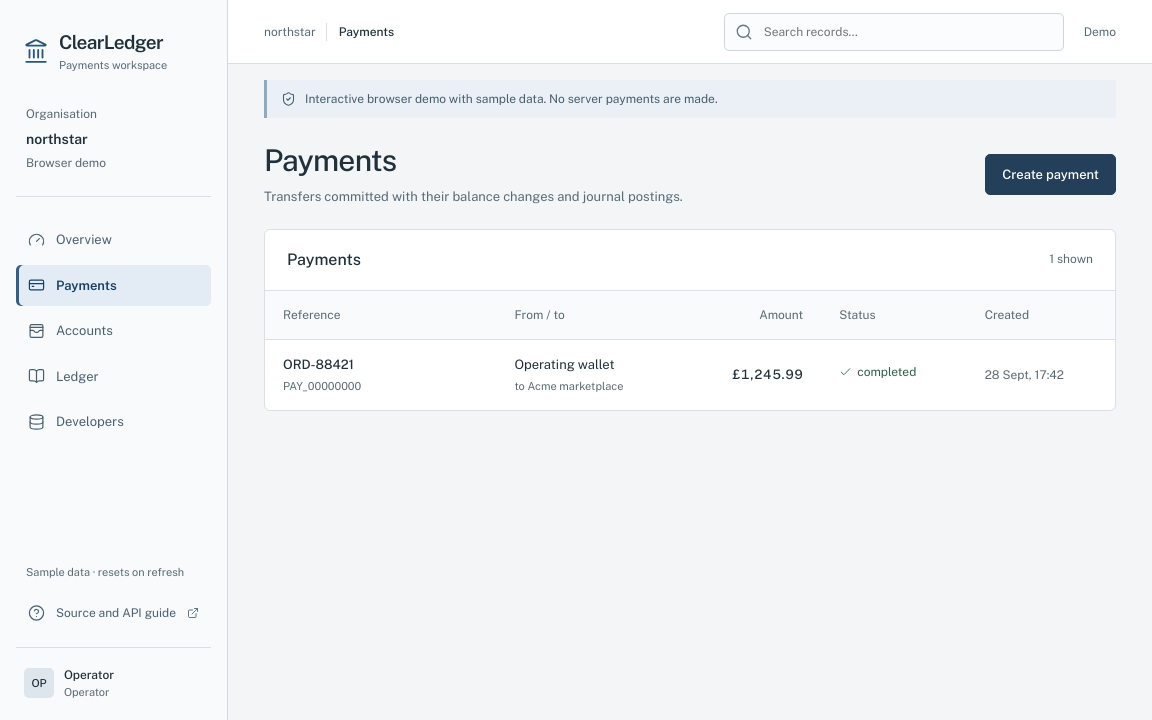
retains the idempotency key across an ambiguous network failure and retry
Click the button "Create payment": (1051, 174) [985,154,1116,195]
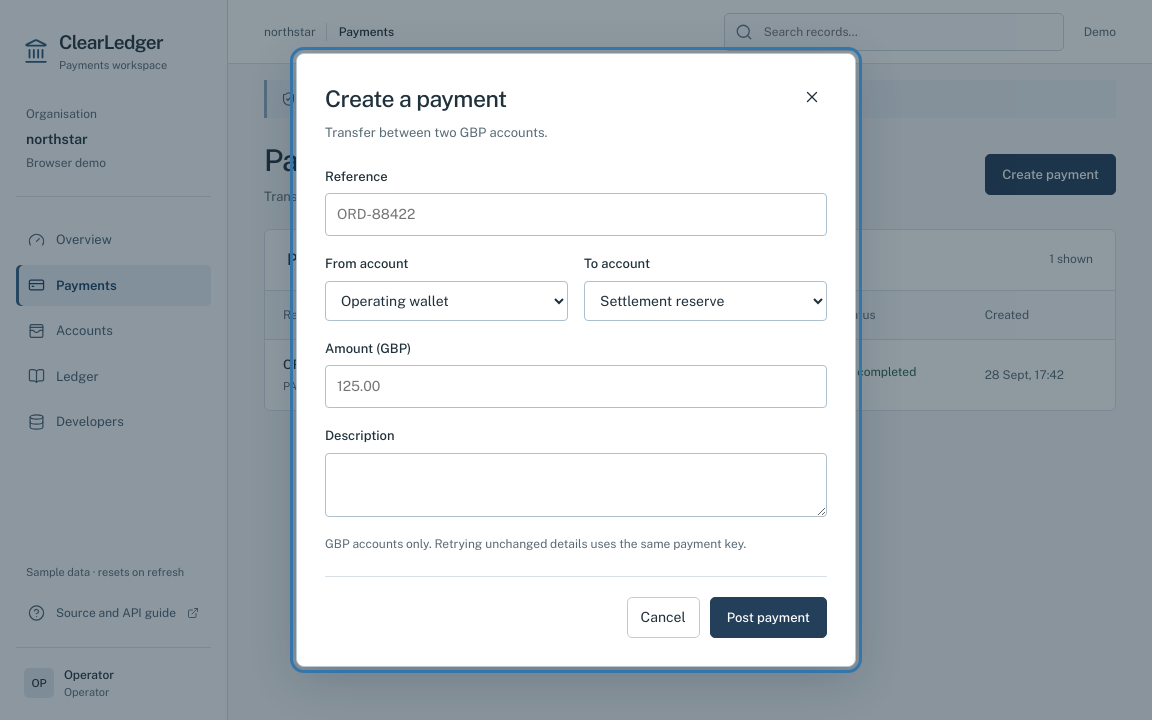
In the field labelled "Reference": (576, 215) [325,193,827,236], type "RETRY-1"
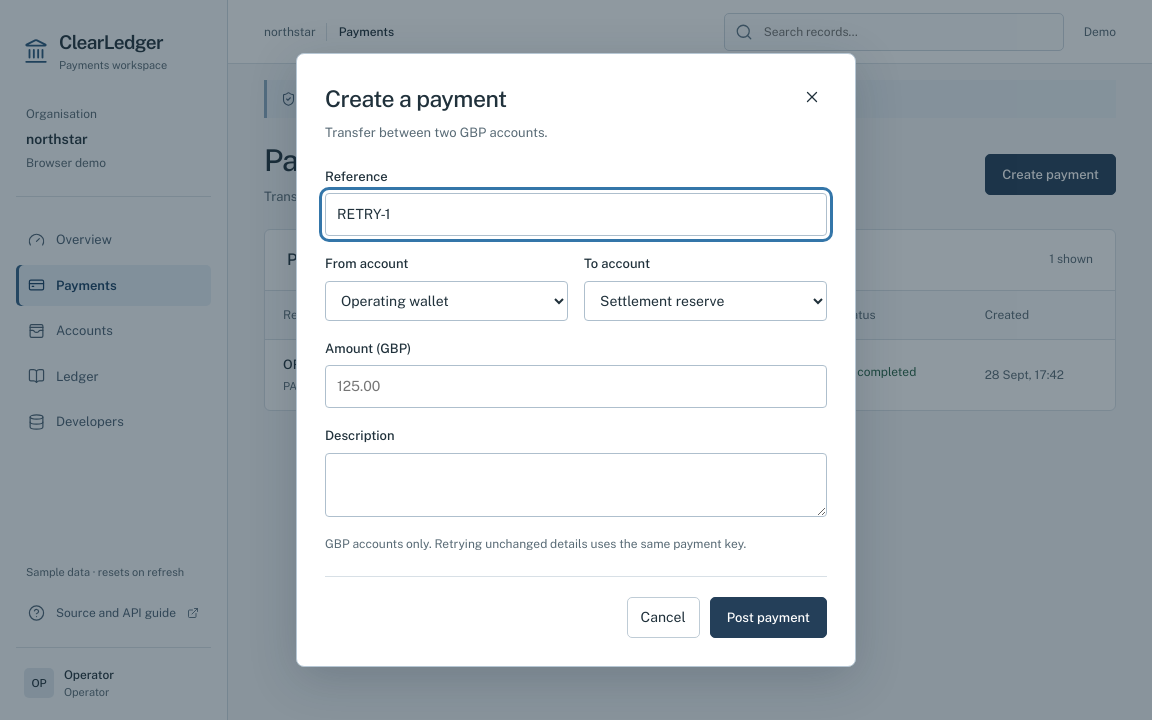
In the field labelled "Amount (GBP)": (576, 387) [325,365,827,408], type "0.29"
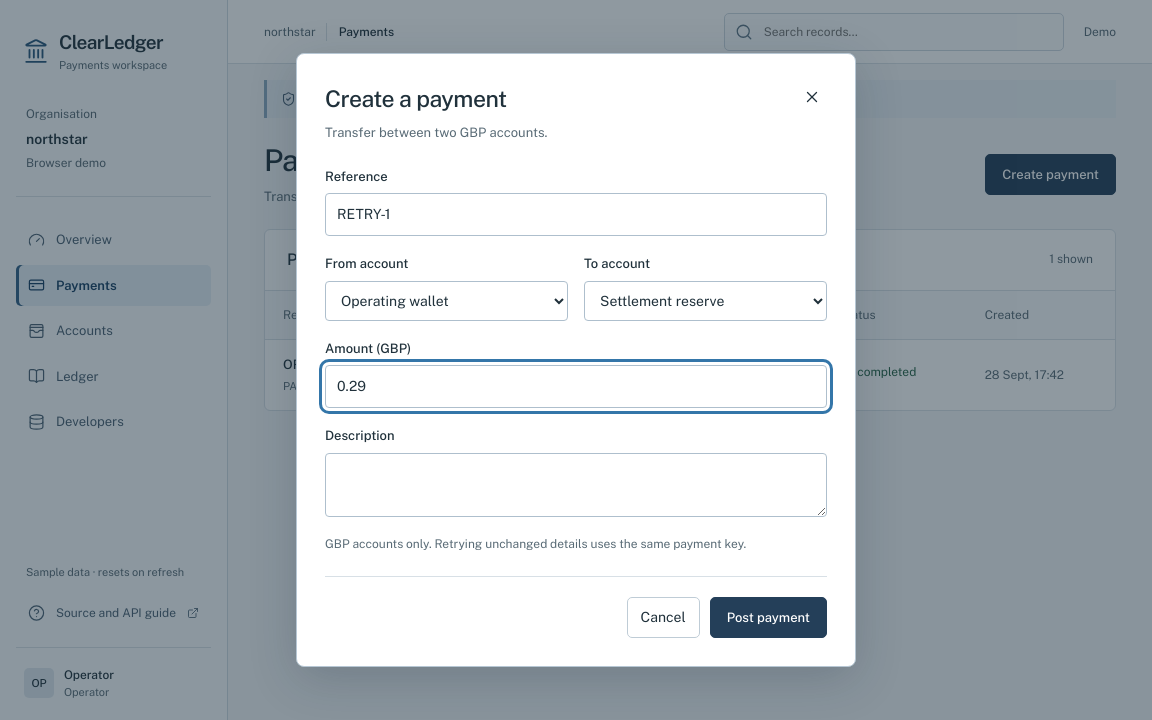
Click the button "Post payment": (768, 618) [710,597,827,638]
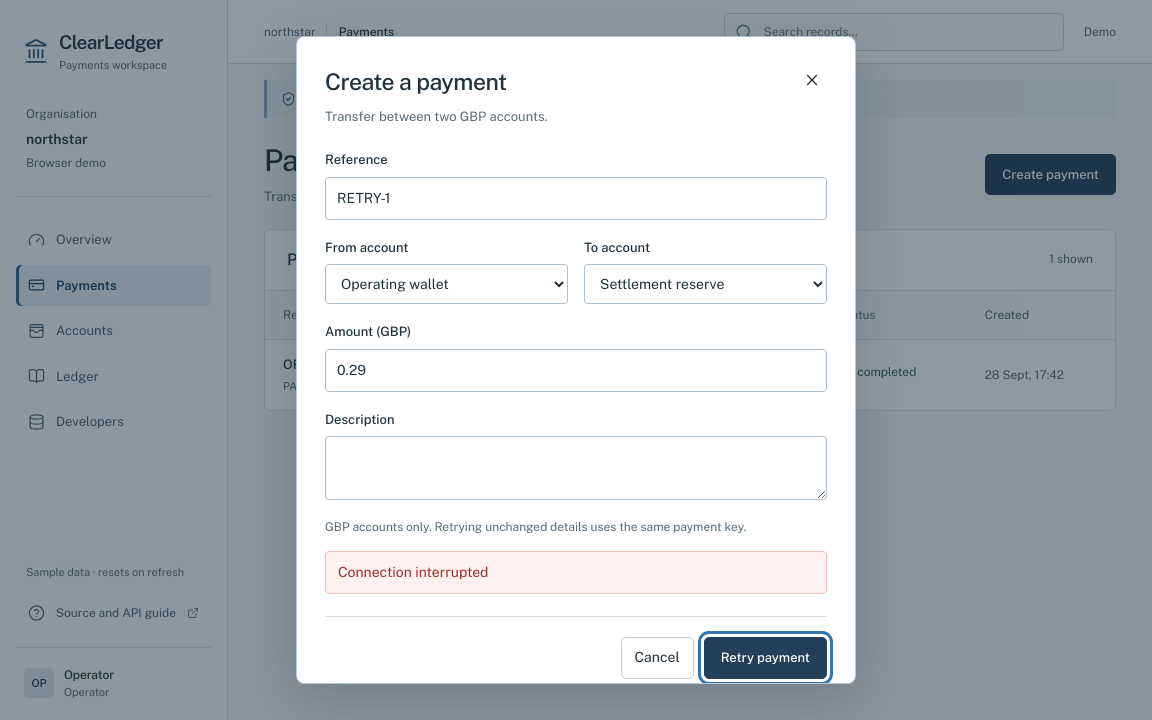
Expected: the message reads "Connection interrupted", [338,564,488,580]
Click the button "Retry payment": (765, 658) [704,637,827,679]
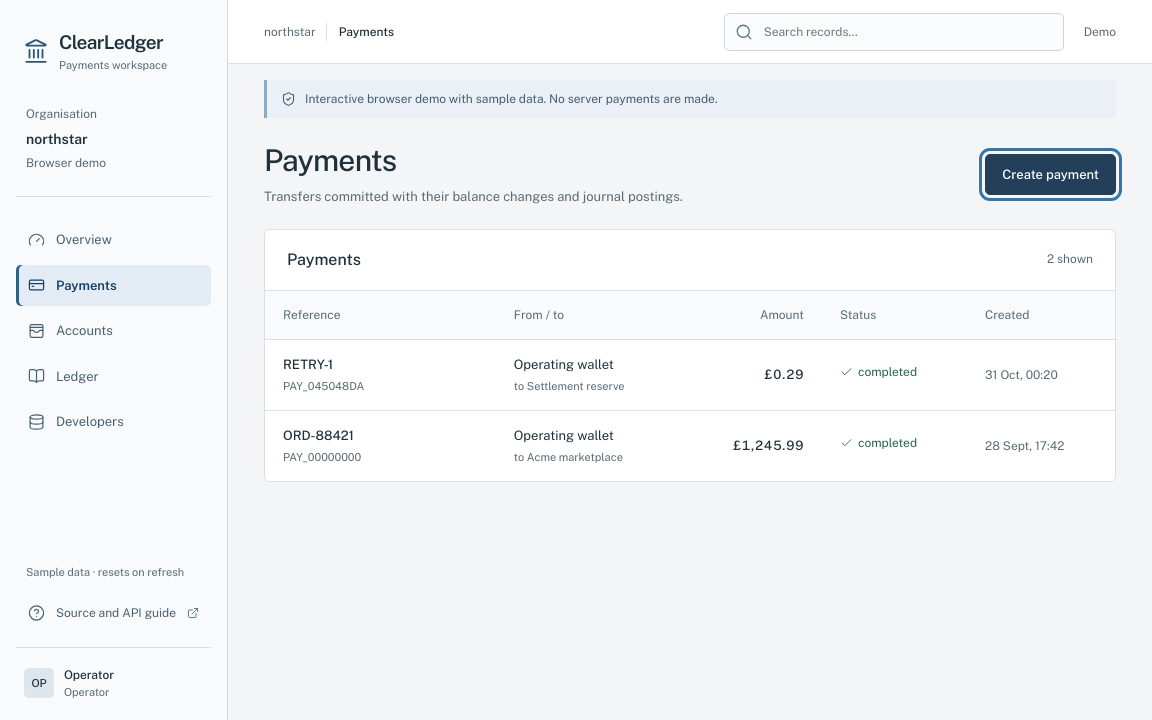
Expected: the text "RETRY-1" is shown, [283,356,333,372]
